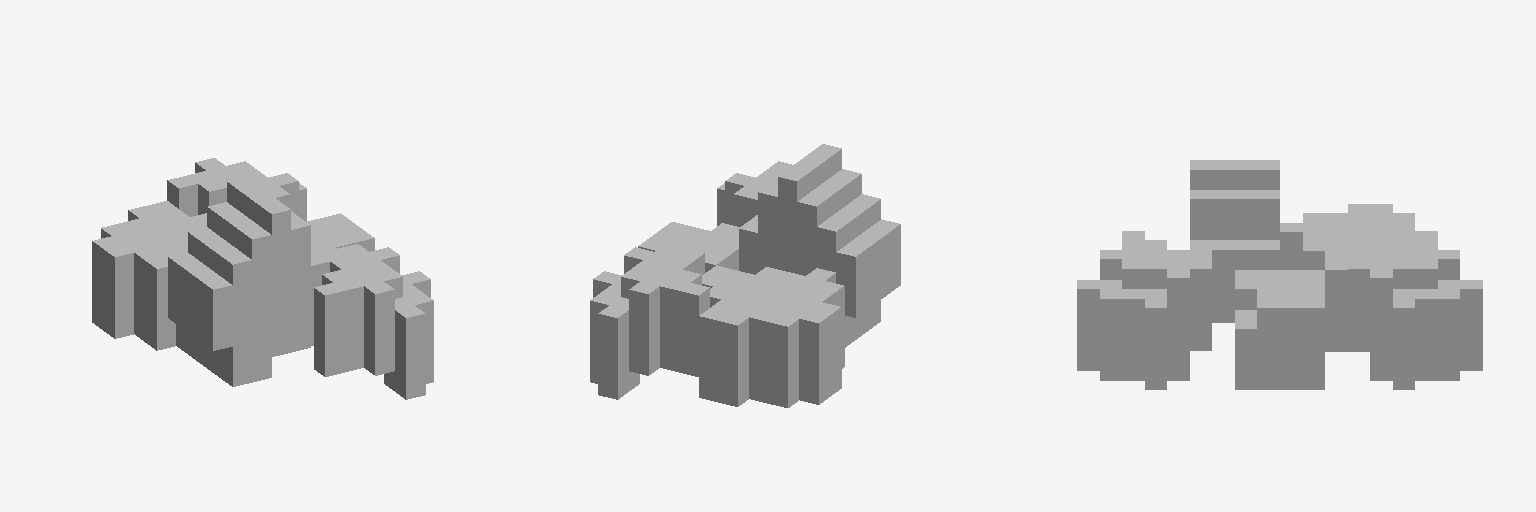
File: fired_potato.obj
3 views of the same model, side by side, from view 1: azimuth 30°, elevation 25°; view 2: azimuth 150°, elevation 25°; view 3: azimuth 270°, elevation 25° (orthographic).
Visible parts, largest first — view 1: object 1; view 2: object 1; view 3: object 1.
Boxes of the visible parts, x1=… form: object 1: x1=92, y1=158, x2=433, y2=399; object 1: x1=590, y1=144, x2=900, y2=407; object 1: x1=1077, y1=160, x2=1482, y2=389.
Bounding box in the file's own units: 1.1 × 0.8 × 1.8.